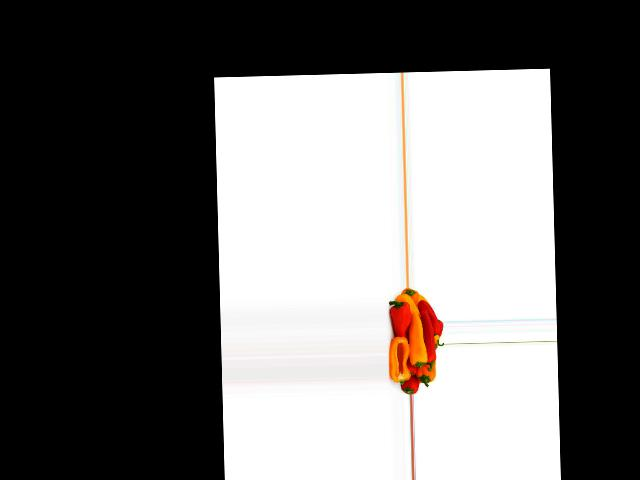bell_pepper: (401, 364, 422, 395)
